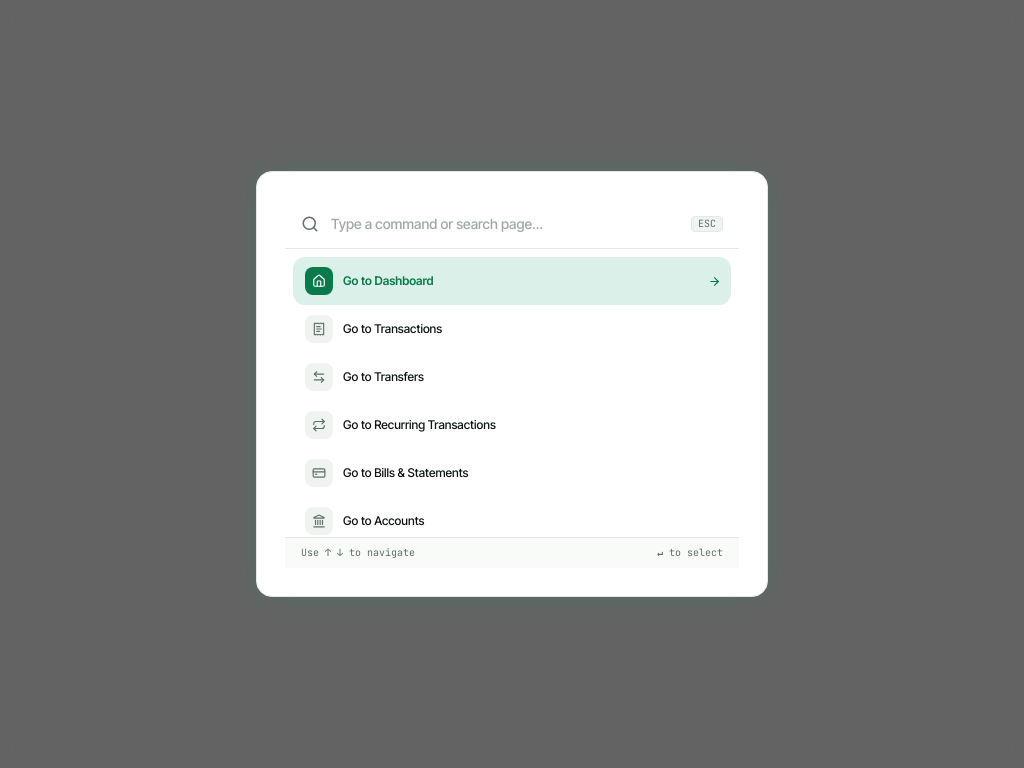
Test: CommandPalette › filters command list based on user query
Type "Recurring" into the field with placeholder "Type a command or search page…" at (505, 224), box [331,214,679,234]
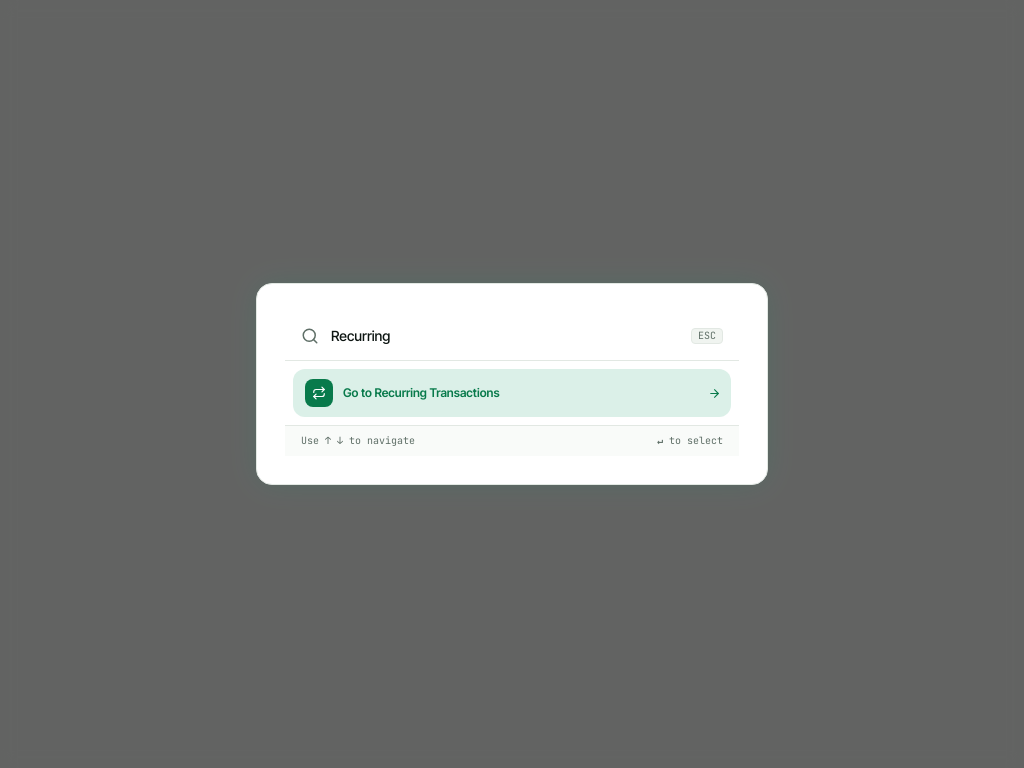
Expected: the text "Go to Recurring Transactions" is shown, [343,385,500,401]
Expected: the button "Go to Dashboard" is gone
